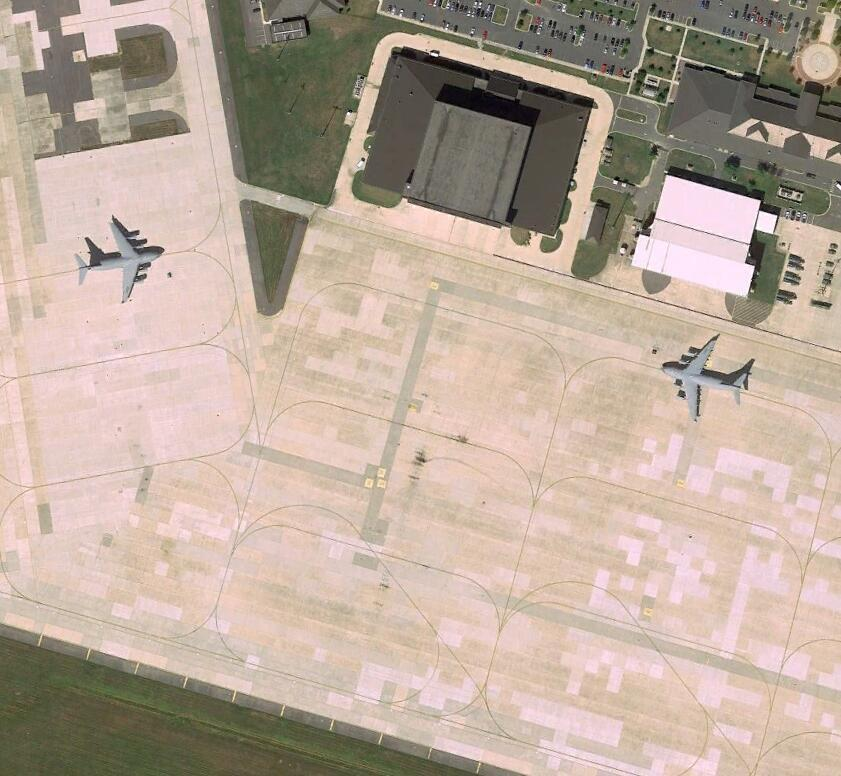A3: (72, 216, 165, 306), (661, 334, 753, 421)
